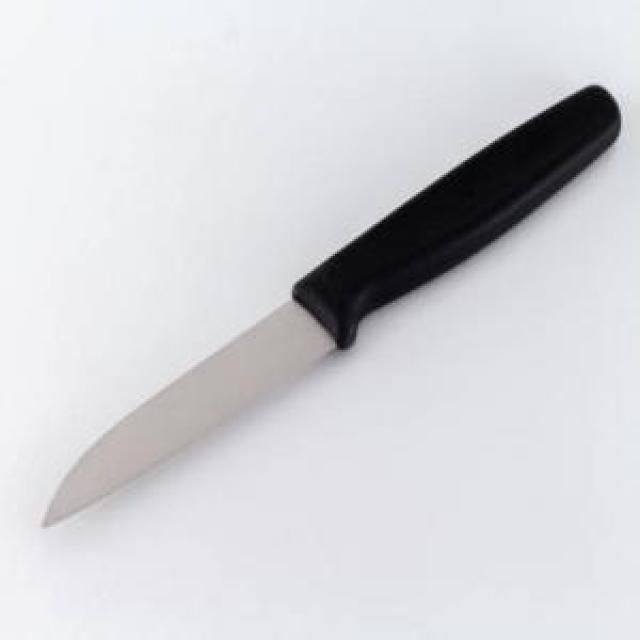knife: (41, 77, 624, 532)
